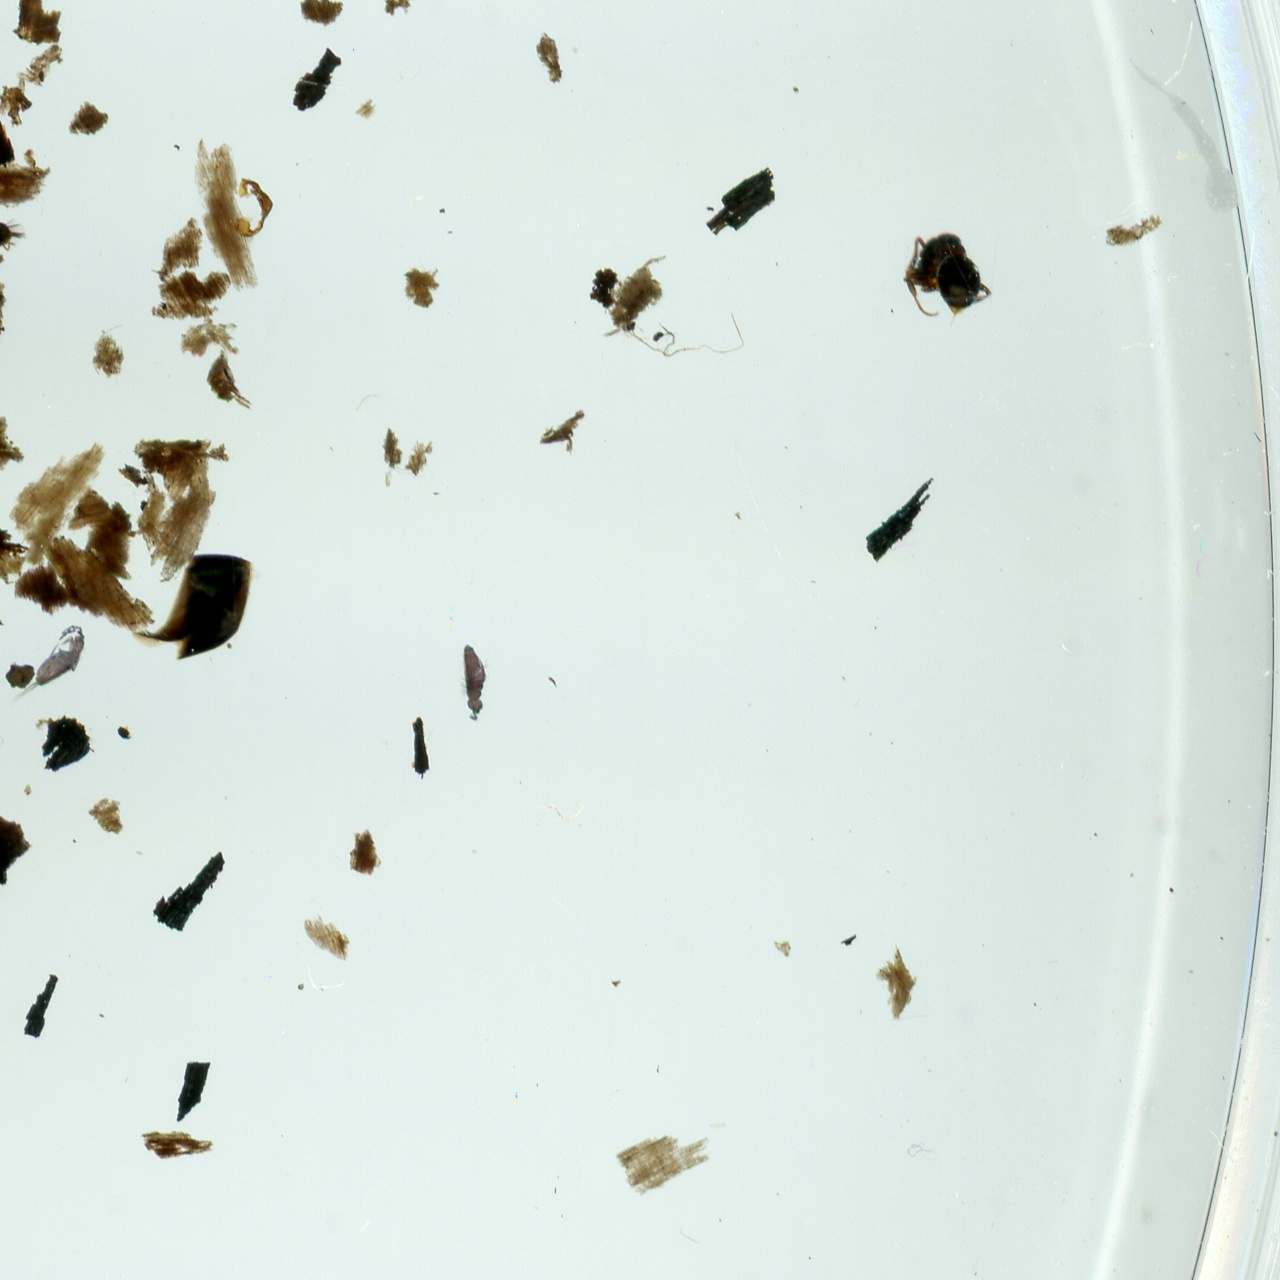arthropod: (2, 612, 105, 728), (898, 226, 998, 321), (458, 640, 496, 727), (0, 211, 30, 264)
